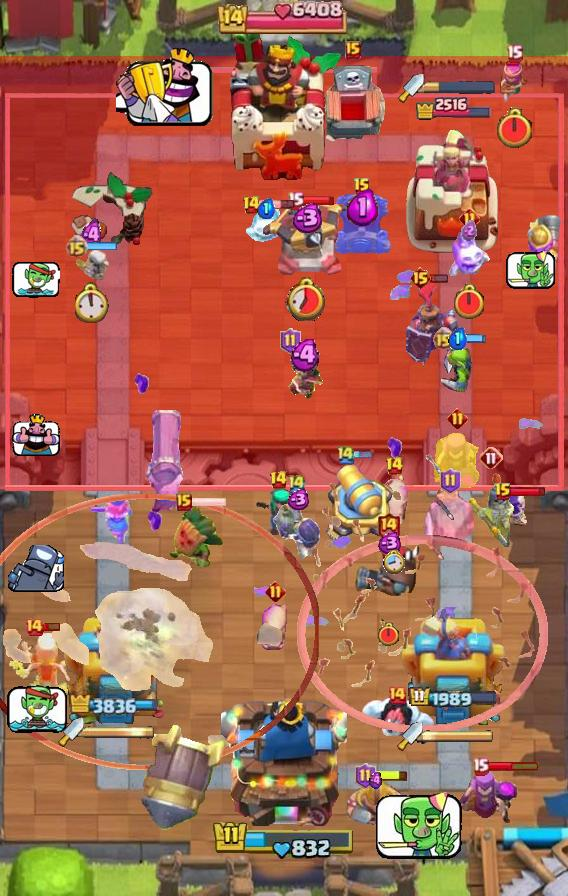archer: (498, 60, 530, 104)
bar: (487, 760, 540, 772), (373, 769, 409, 782), (190, 496, 227, 508), (510, 486, 547, 497), (258, 199, 295, 210), (452, 333, 487, 344), (85, 241, 119, 252), (301, 195, 335, 206), (41, 621, 61, 632), (430, 273, 449, 284), (353, 450, 373, 460)
bar-level: (376, 511, 401, 542), (479, 446, 503, 470), (409, 266, 432, 290), (355, 763, 376, 789), (440, 468, 461, 494), (280, 328, 301, 354), (432, 327, 455, 350), (65, 235, 88, 258), (265, 581, 286, 602), (447, 408, 468, 429), (459, 208, 480, 229), (287, 473, 307, 494), (336, 444, 356, 465), (387, 685, 407, 705), (24, 617, 44, 637), (269, 470, 288, 490), (385, 456, 404, 476), (242, 195, 261, 215), (494, 482, 512, 502), (353, 177, 371, 197), (472, 757, 489, 776), (287, 191, 304, 210), (506, 44, 523, 63), (176, 493, 192, 511), (345, 41, 361, 59)
bomber-evolution: (270, 498, 324, 560)
clock: (285, 276, 328, 321), (495, 107, 534, 150), (75, 282, 110, 323), (452, 283, 486, 321), (377, 622, 400, 647), (383, 550, 405, 575)
dagger-duchess-tower: (401, 601, 505, 731), (403, 124, 503, 256), (62, 611, 166, 731)
dagger-duchess-tower-bar: (423, 729, 495, 743), (84, 725, 156, 739), (424, 80, 496, 94)
dart-goblin: (167, 502, 225, 572)
elite-barbarian: (345, 778, 407, 826)
elixir: (347, 189, 378, 226), (288, 203, 324, 233), (290, 339, 323, 371), (80, 219, 104, 251), (375, 532, 402, 554), (285, 489, 310, 510), (448, 327, 467, 350), (257, 198, 275, 219), (461, 220, 477, 241), (368, 772, 384, 789)
emote: (116, 47, 214, 126), (374, 784, 466, 864), (6, 685, 67, 734), (8, 545, 64, 594), (506, 247, 557, 291), (12, 414, 60, 457), (12, 260, 60, 298)
goblin: (436, 338, 478, 396)
guard: (466, 471, 516, 547)
hog: (377, 475, 411, 531), (259, 600, 291, 652)
hunter: (353, 536, 423, 598)
ice-spirit: (245, 206, 287, 252)
ice-spirit-evolution: (448, 229, 490, 279)
king-tower: (224, 23, 344, 181), (221, 690, 347, 826)
king-tower-bar: (212, 819, 356, 861), (217, 0, 351, 34)
little-prince: (287, 338, 326, 400)
mortar: (331, 190, 393, 258)
mother-witch: (457, 769, 521, 827), (432, 429, 482, 491)
musketeer: (524, 209, 568, 277)
rascal-girl: (255, 488, 301, 546)
royal-ghost: (422, 483, 478, 549)
skeleton: (73, 248, 111, 284)
skeleton-evolution: (503, 490, 529, 526)
tower-bar: (408, 686, 498, 710), (414, 95, 492, 121), (69, 695, 159, 715)
valkyrie: (87, 495, 135, 549)
